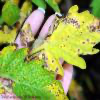Tomato Septoria leaf spot: (41, 7, 95, 70), (3, 48, 69, 99)
